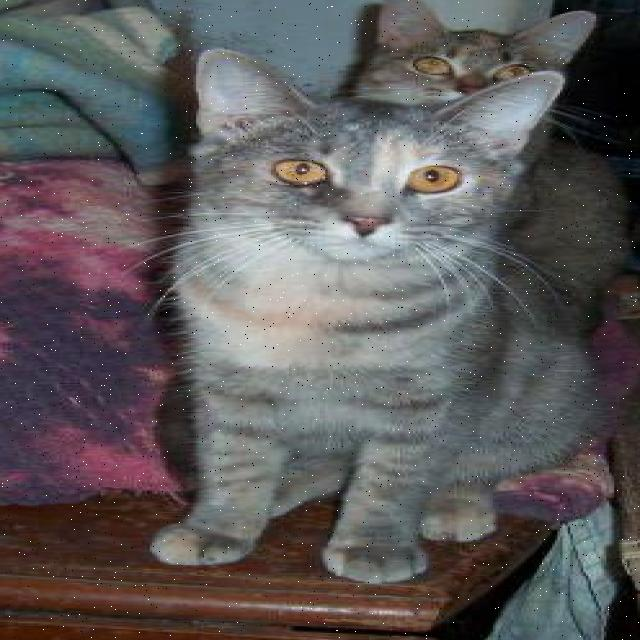Cat: (176, 68, 583, 288), (356, 0, 598, 118)
